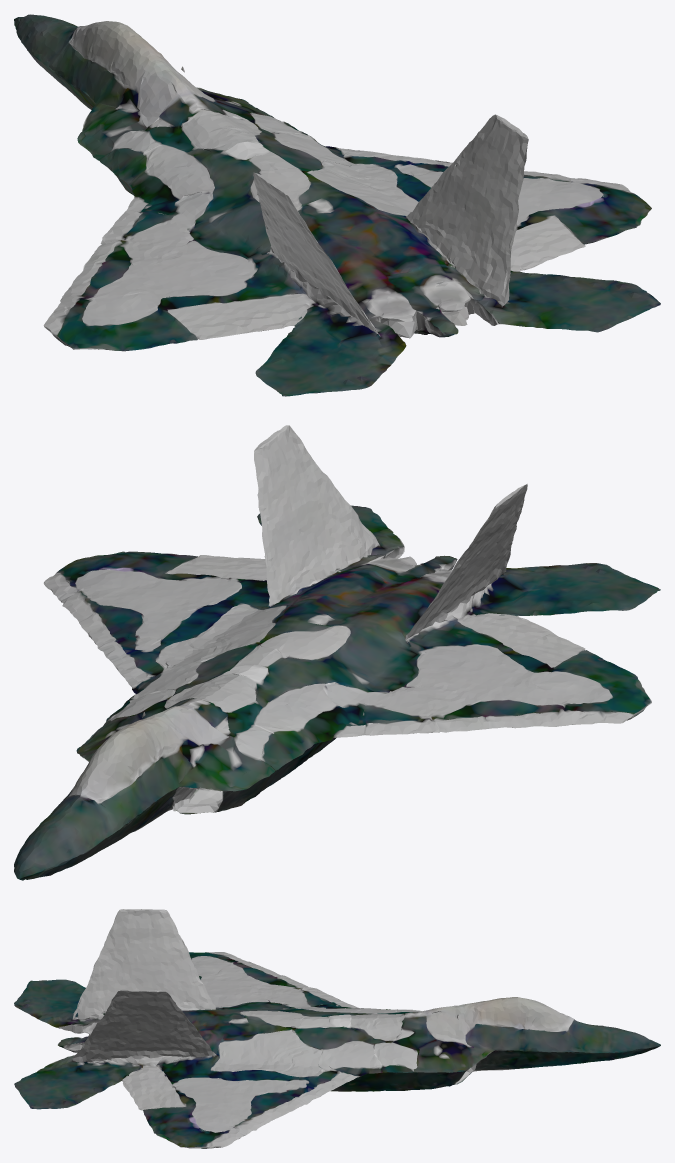
3 renders of one model, top to bottom at view 1: azimuth 30°, elevation 25°; view 2: azimuth 150°, elevation 25°; view 3: azimuth 270°, elevation 25°, orthographic. The views are drawn at different scales.
Parts seen in each view (by area): view 1: defaultobject; view 2: defaultobject; view 3: defaultobject.
Part boxes in pixels (x1,y1,x2,y2): defaultobject: (14, 14, 660, 396); defaultobject: (14, 425, 660, 880); defaultobject: (14, 909, 660, 1148).
Size of the model in its own units: 0.6762 by 0.2 by 0.9451.
